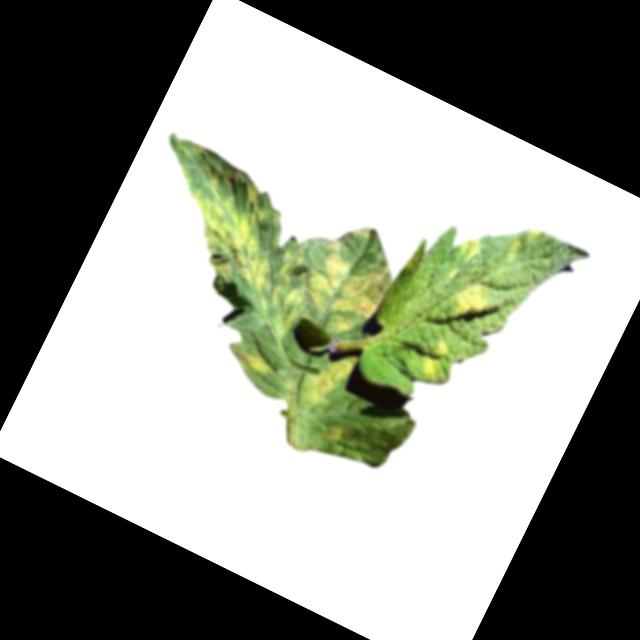Leaf_Mold: (114, 129, 336, 329), (288, 233, 399, 346), (291, 343, 360, 423), (443, 268, 501, 326), (223, 340, 275, 382), (416, 332, 457, 384), (504, 218, 545, 270), (450, 227, 485, 266), (321, 419, 345, 444)
